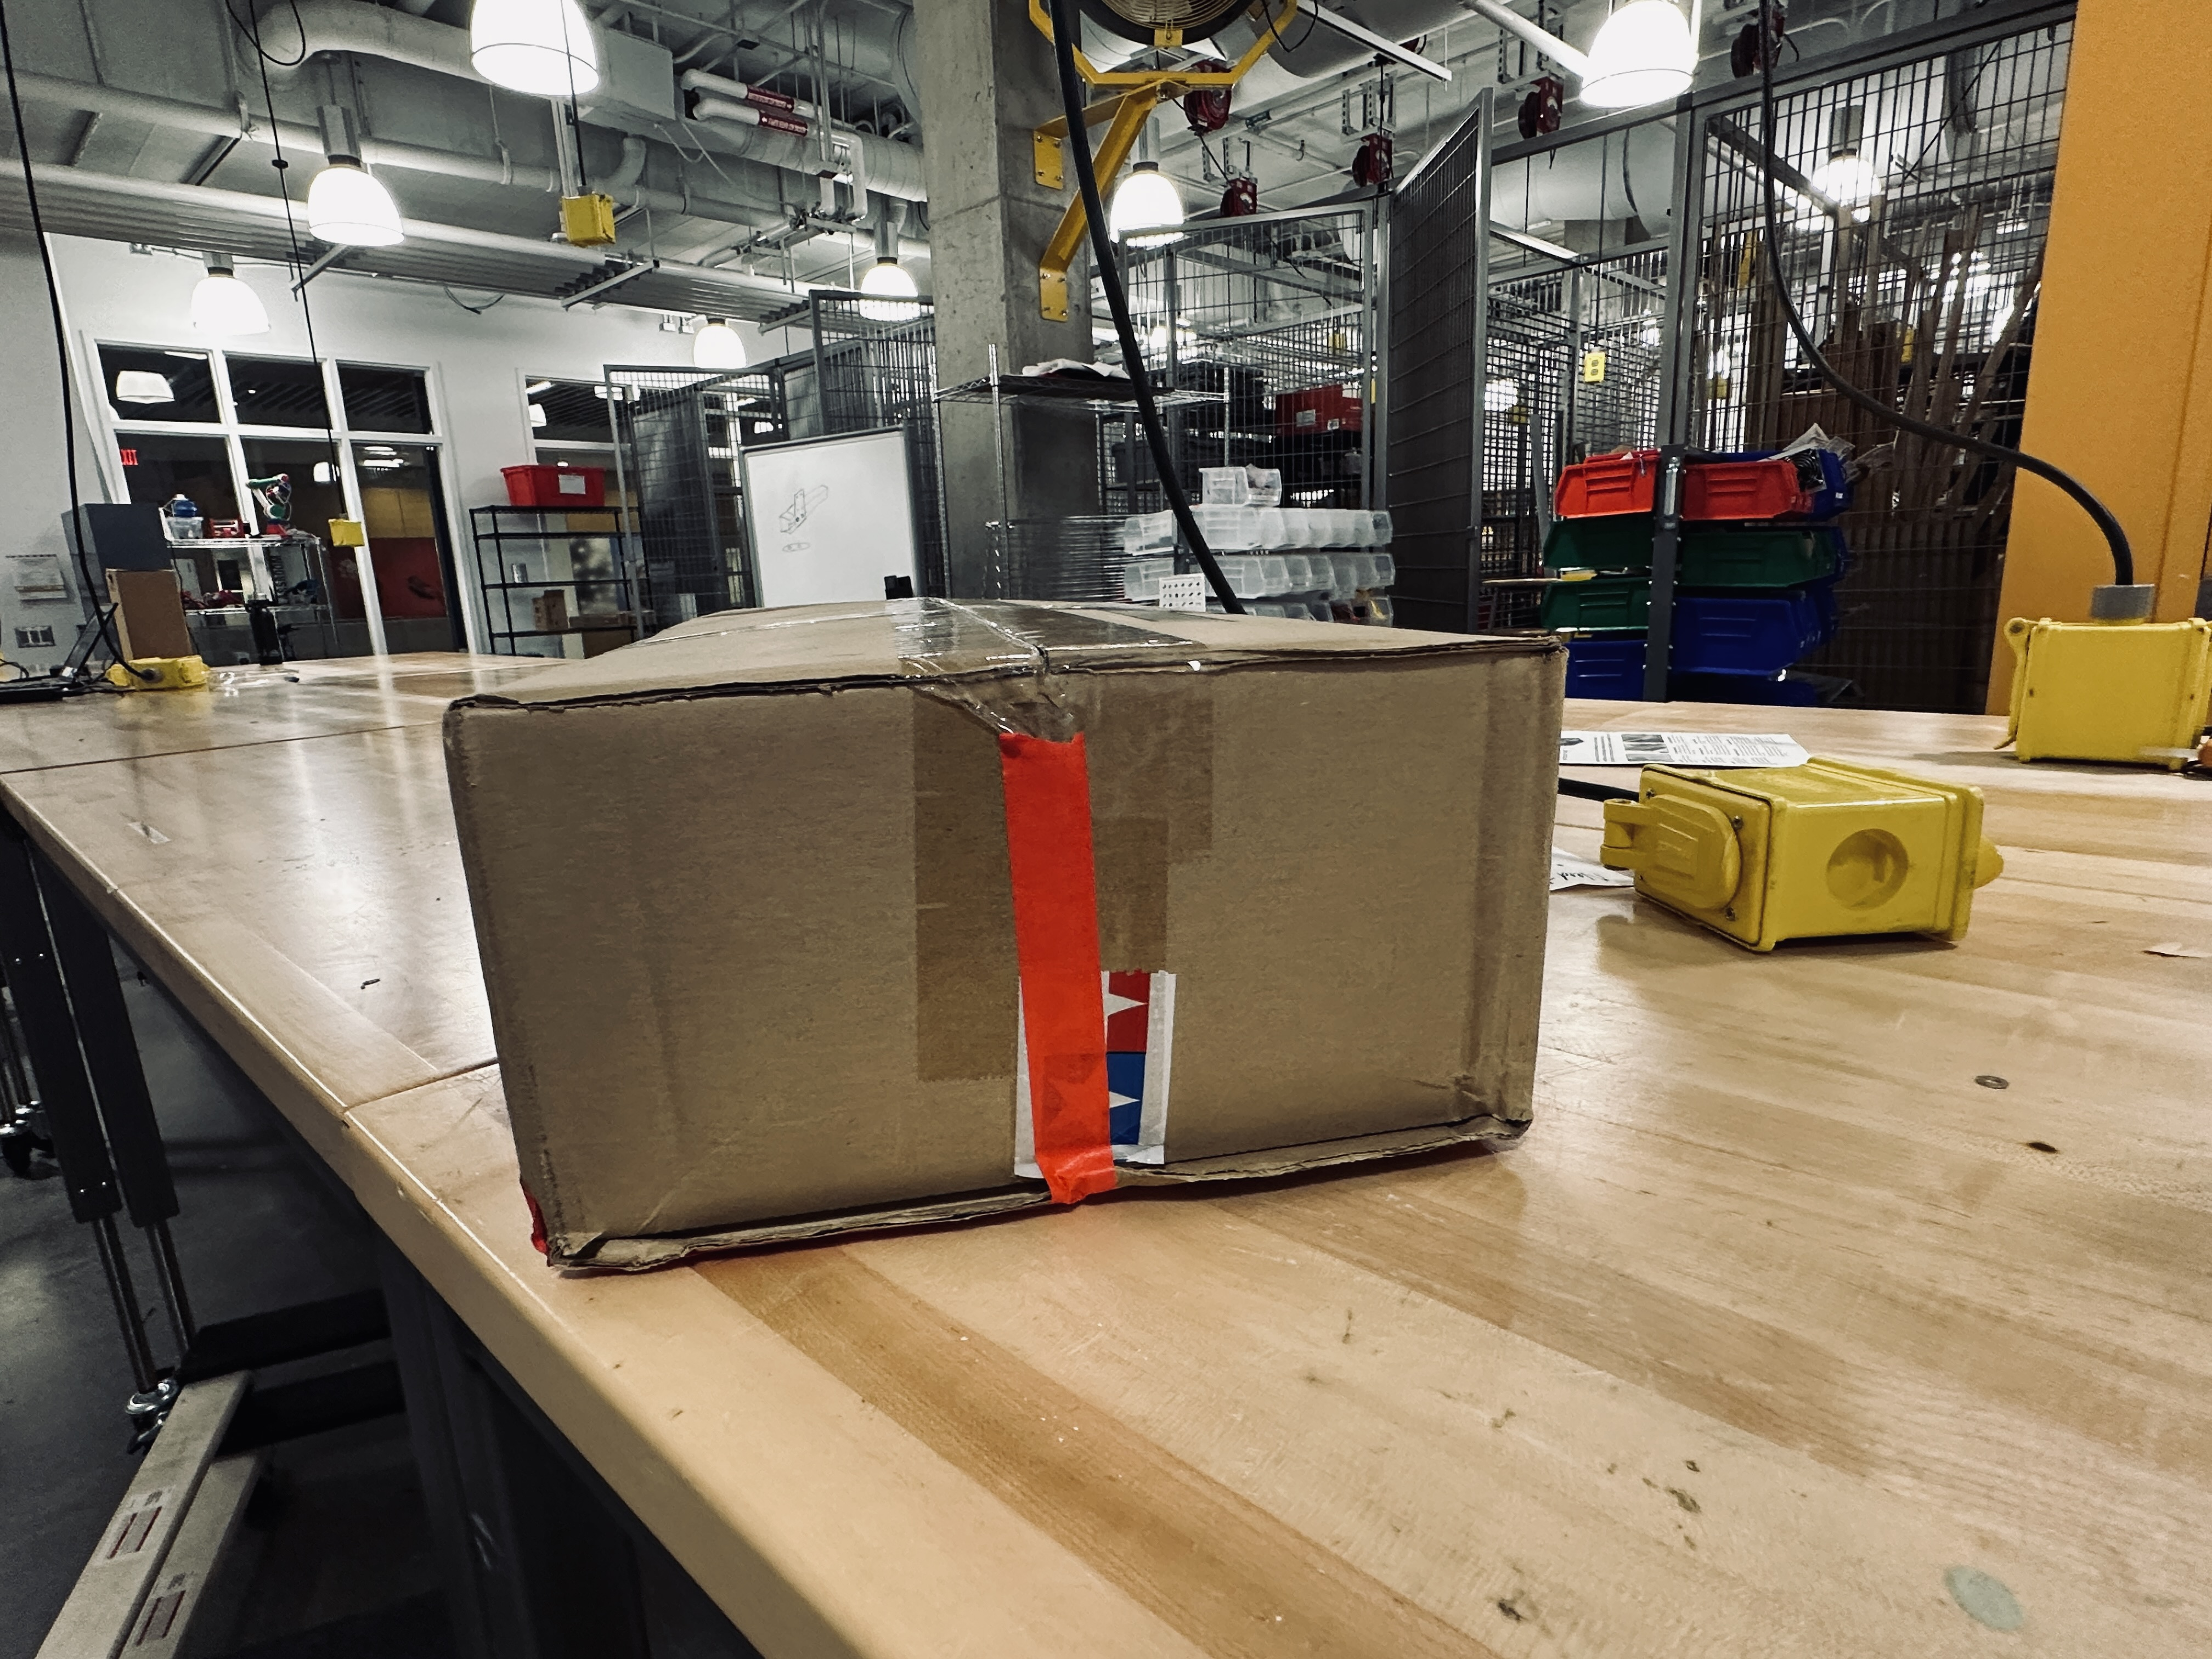Box_Obstacle: (430, 586, 1597, 1285)
